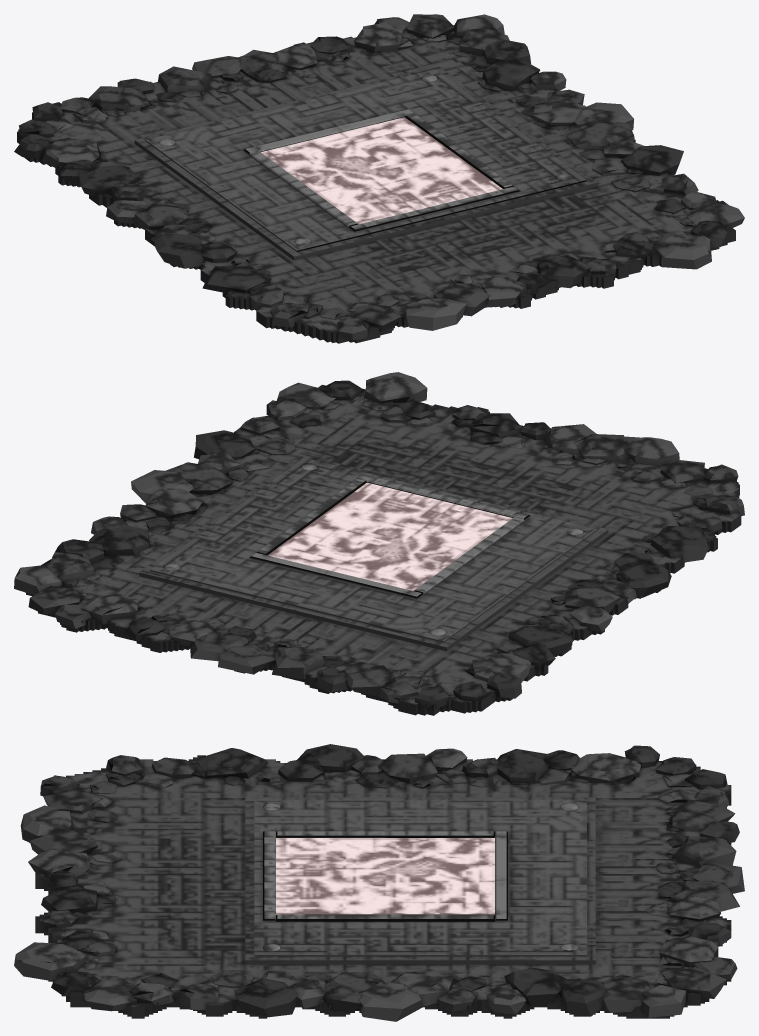
The model's file is l1bld-bunker.glb.
3 renders of one model, top to bottom at view 1: azimuth 30°, elevation 25°; view 2: azimuth 150°, elevation 25°; view 3: azimuth 270°, elevation 25°, orthographic. The views are drawn at different scales.
Visible parts, largest first — view 1: shapesz-l1bld-bunker-deck, shapesz-l1bld-bunker-parts; view 2: shapesz-l1bld-bunker-deck, shapesz-l1bld-bunker-parts; view 3: shapesz-l1bld-bunker-deck, shapesz-l1bld-bunker-parts.
Boxes of the visible parts, x1,y1,x2,y2 form: shapesz-l1bld-bunker-deck: (17,25,735,343); shapesz-l1bld-bunker-parts: (14,14,744,340); shapesz-l1bld-bunker-deck: (26,384,741,715); shapesz-l1bld-bunker-parts: (14,372,744,708); shapesz-l1bld-bunker-deck: (35,755,731,1018); shapesz-l1bld-bunker-parts: (14,744,744,1021).
Bounding box in the file's own units: 12.07 × 0.4973 × 13.92.
6 materials, 6 textured.
